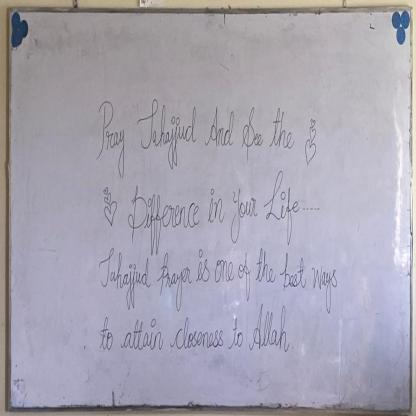Handwritten text: (96, 92, 300, 169), (95, 299, 292, 368), (126, 170, 302, 245), (89, 252, 343, 301)
Whiteboard: (9, 7, 412, 413)
